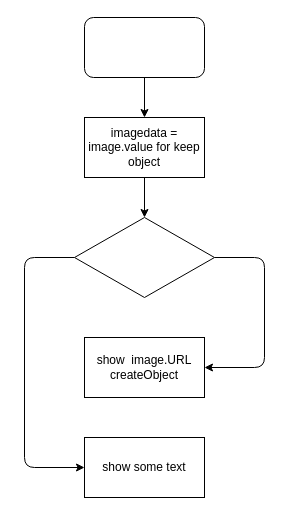
Some shapes in this 290 by 515 pixel diagram are drawn without their labels. The shapes that lost their labels are listed below. From the top down, each one's box as (x1, y1, x2, y2) in pixels, then its label:
(84, 16, 204, 78): image
(74, 216, 214, 298): if(imageData)
